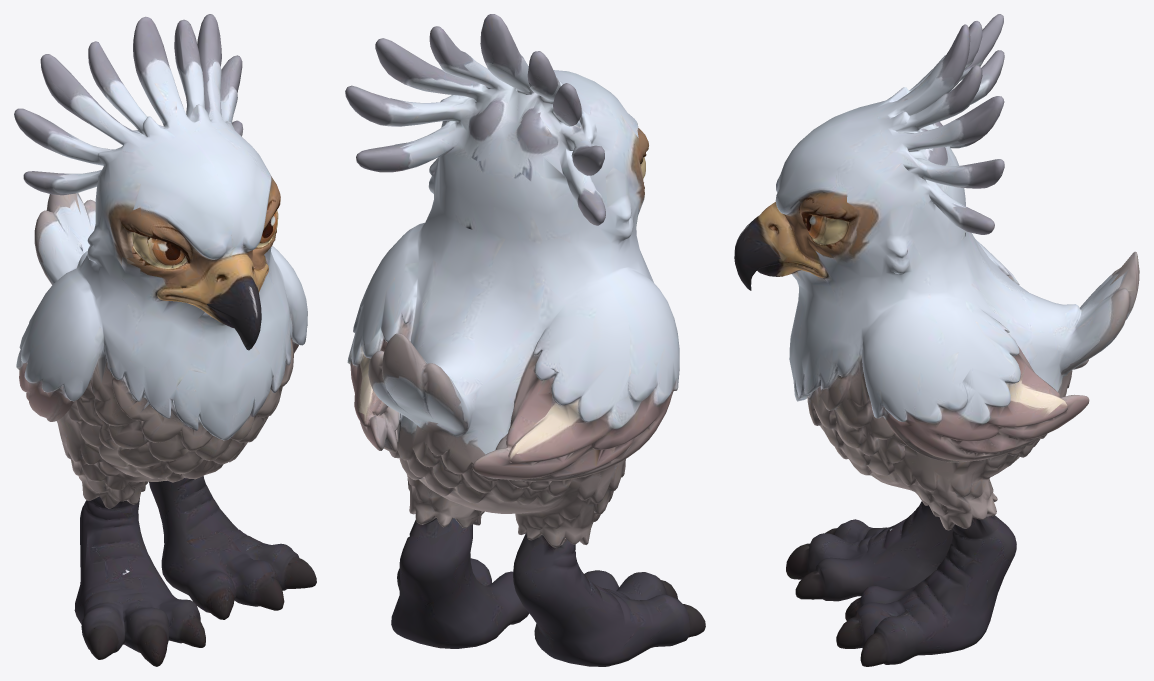
3 renders of one model, left to right at view 1: azimuth 30°, elevation 25°; view 2: azimuth 150°, elevation 25°; view 3: azimuth 270°, elevation 25°, orthographic. The views are drawn at different scales.
Parts seen in each view (by area): view 1: Mesh_0; view 2: Mesh_0; view 3: Mesh_0.
Boxes of the visible parts, x1,y1,x2,y2 form: Mesh_0: [14, 14, 316, 666]; Mesh_0: [345, 14, 705, 666]; Mesh_0: [734, 14, 1139, 666].
Size of the model in its own units: 0.932 by 1.9 by 1.19.
1 material, 1 textured.
